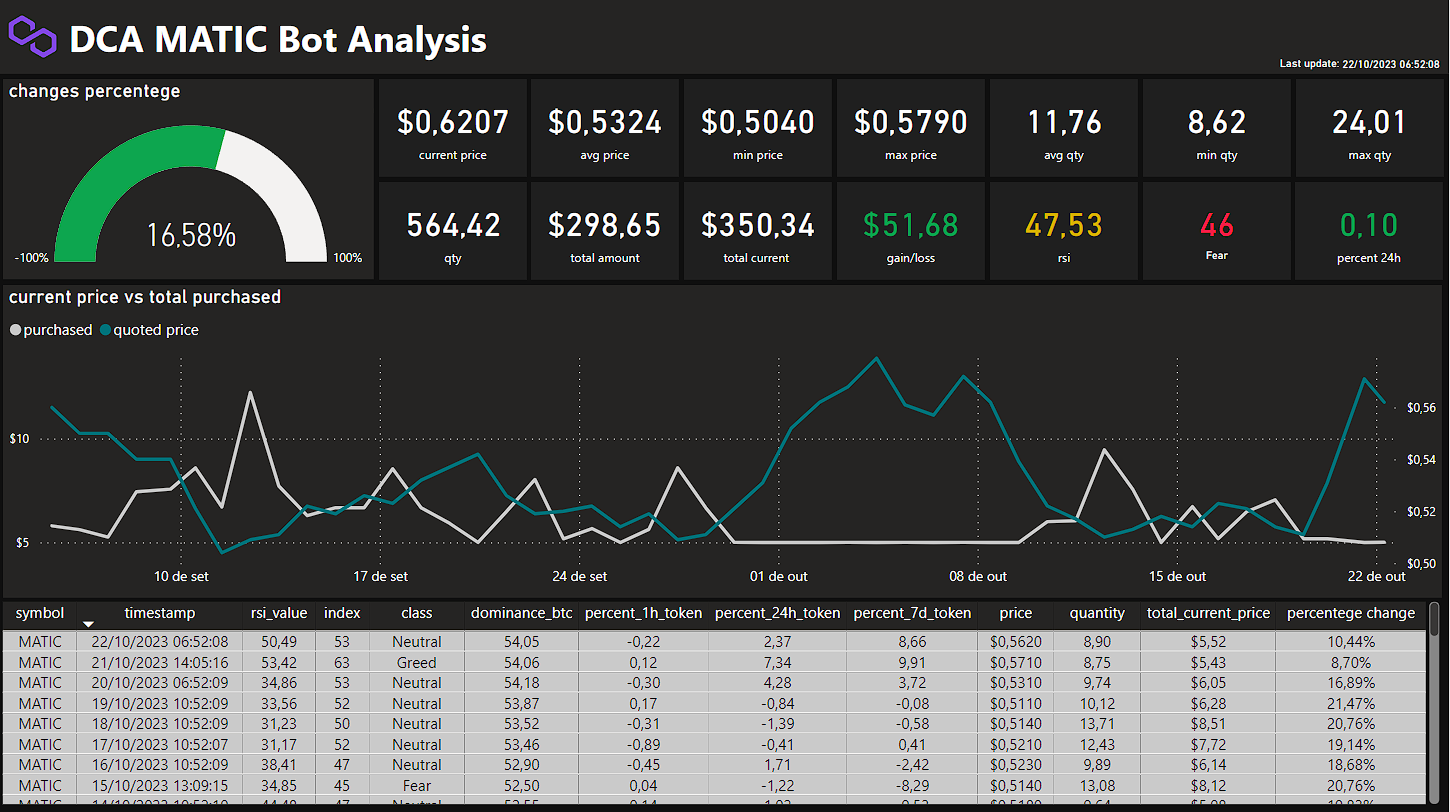

Layout of this report page (visuals, bound fields, positions):
{"tool":"powerbi","page":{"name":"Polygon","canvas":[1280,720],"ordinal":0},"visuals":[{"type":"card","fields":{"Values":["dca._m_last_index"]},"box":[1010.6,161.6,130,86],"z":0},{"type":"tableEx","fields":{"Values":["dca.symbol","dca.timestamp","Sum(dca.rsi_value)","Sum(dca.index_current)","dca.index_class","Sum(dca.dominance_btc_global)","Sum(dca.percent_1h_token)","Sum(dca.percent_24h_token)","Sum(dca.percent_7d_token)","Sum(dca.price)","Sum(dca.quantity)","dca.total_current_price"]},"box":[2.6,526,1274,187.9],"z":1000},{"type":"gauge","title":"changes percentege","fields":{"Y":["dca.change_percentege"],"MinValue":["dca.min"],"MaxValue":["dca.max"]},"box":[8.8,71.1,325.8,176.5],"z":2000},{"type":"card","fields":{"Values":["Avg(dca.current_price)"]},"box":[338.9,71.1,130,86],"z":3000},{"type":"card","fields":{"Values":["Avg(dca.price)"]},"box":[473.3,71.1,130,86],"z":4000},{"type":"card","fields":{"Values":["Max(dca.price)"]},"box":[742,71.1,130,86],"z":5000},{"type":"card","fields":{"Values":["Min(dca.price)"]},"box":[607.6,71.1,130,86],"z":6000},{"type":"card","fields":{"Values":["Sum(dca.quantity)"]},"box":[338.9,161.6,130,86],"z":7000},{"type":"card","fields":{"Values":["Sum(dca.amount)"]},"box":[473.4,161.6,130,86],"z":8000},{"type":"shape","box":[0,0,1280,66.7],"z":9000},{"type":"lineChart","title":"current price vs total purchased","fields":{"Y":["Sum(dca.amount)"],"Category":["dca.timestamp"],"Y2":["Sum(dca.price)"]},"box":[8.8,252,1265.3,274.8],"z":10000},{"type":"card","fields":{"Values":["Avg(dca.quantity)"]},"box":[876.4,71.1,130,86],"z":11000},{"type":"card","fields":{"Values":["Min(dca.quantity)"]},"box":[1010.8,71.1,130,86],"z":12000},{"type":"card","fields":{"Values":["Max(dca.quantity)"]},"box":[1145.1,71.1,130,86],"z":13000},{"type":"card","fields":{"Values":["dca.total_current_price"]},"box":[607.6,161.6,130,86],"z":14000},{"type":"card","fields":{"Values":["dca.gain_loss"]},"box":[742,161.6,130,86],"z":15000},{"type":"card","fields":{"Values":["dca._m_last_rsi"]},"box":[876.3,161.6,130,86],"z":16000},{"type":"card","fields":{"Values":["dca._m_last_change"]},"box":[1145,161.6,130,86],"z":17000},{"type":"textbox","box":[61.5,7,490,54.4],"z":18000},{"type":"image","box":[8.8,4.4,51.8,58],"z":19000},{"type":"card","fields":{"Values":["dca.text_index"]},"box":[1010.6,213.4,130,26.3],"z":20000},{"type":"card","fields":{"Values":["Min(update.date_now)"]},"box":[1174,45.7,106.2,24.6],"z":21000},{"type":"textbox","box":[1116.9,41.3,71.1,32.5],"z":22000}]}

Visuals, with their boxes in screenshot pixels (x1, y1, x2, y2), scaled from the page's 1280x720 canvas onto the 1450x812 screenshot:
card - dca._m_last_index: left=1145, top=182, right=1292, bottom=279
tableEx - dca.symbol x dca.timestamp: left=3, top=593, right=1446, bottom=805
"changes percentege" gauge: left=10, top=80, right=379, bottom=279
card - Avg(dca.current_price): left=384, top=80, right=531, bottom=177
card - Avg(dca.price): left=536, top=80, right=683, bottom=177
card - Max(dca.price): left=841, top=80, right=988, bottom=177
card - Min(dca.price): left=688, top=80, right=836, bottom=177
card - Sum(dca.quantity): left=384, top=182, right=531, bottom=279
card - Sum(dca.amount): left=536, top=182, right=684, bottom=279
shape: left=0, top=0, right=1449, bottom=75
"current price vs total purchased" lineChart: left=10, top=284, right=1443, bottom=594
card - Avg(dca.quantity): left=993, top=80, right=1140, bottom=177
card - Min(dca.quantity): left=1145, top=80, right=1292, bottom=177
card - Max(dca.quantity): left=1297, top=80, right=1444, bottom=177
card - dca.total_current_price: left=688, top=182, right=836, bottom=279
card - dca.gain_loss: left=841, top=182, right=988, bottom=279
card - dca._m_last_rsi: left=993, top=182, right=1140, bottom=279
card - dca._m_last_change: left=1297, top=182, right=1444, bottom=279
textbox: left=70, top=8, right=625, bottom=69
image: left=10, top=5, right=69, bottom=70
card - dca.text_index: left=1145, top=241, right=1292, bottom=270
card - Min(update.date_now): left=1330, top=52, right=1449, bottom=79
textbox: left=1265, top=47, right=1346, bottom=83
